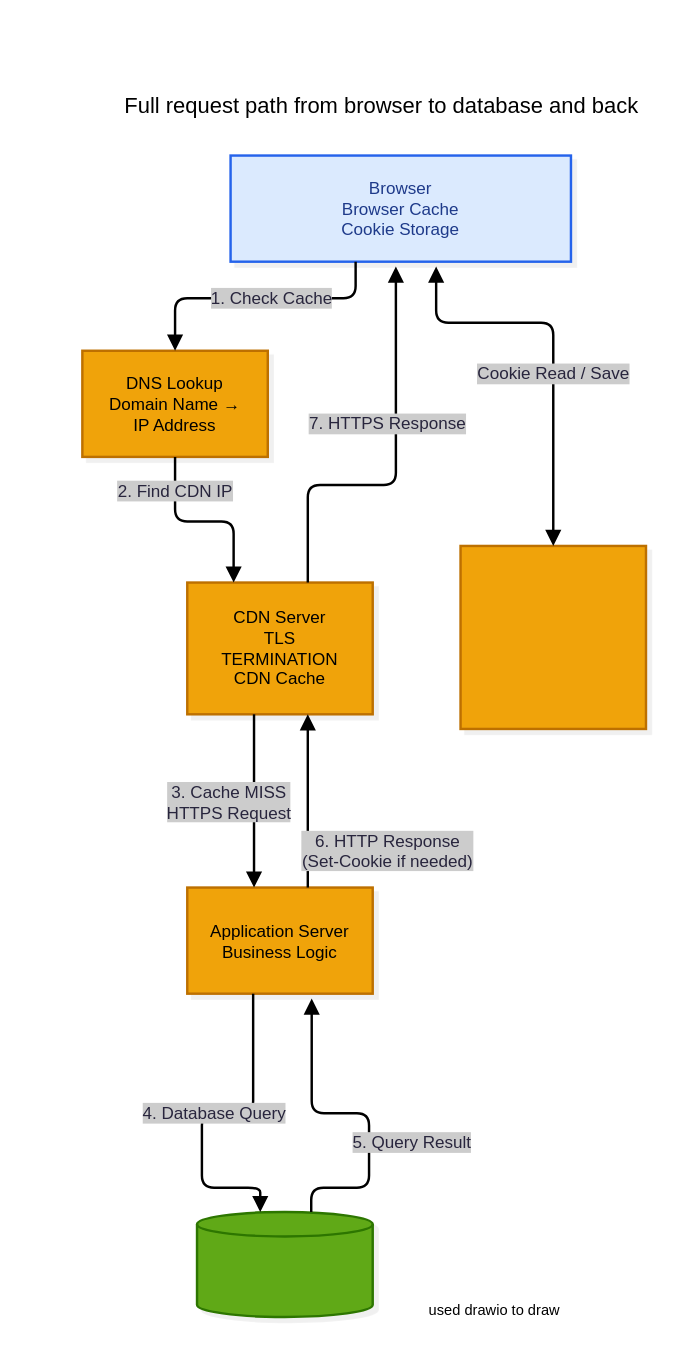
Image size: 689x1349. Some labels were removed from this diagram. Here are the shapes that lost their labels. From the top down, the centre of each, then its label:
point (555, 639): Browser Cookie Storage Saves cookies and sends them with future requests
point (286, 1266): Database
